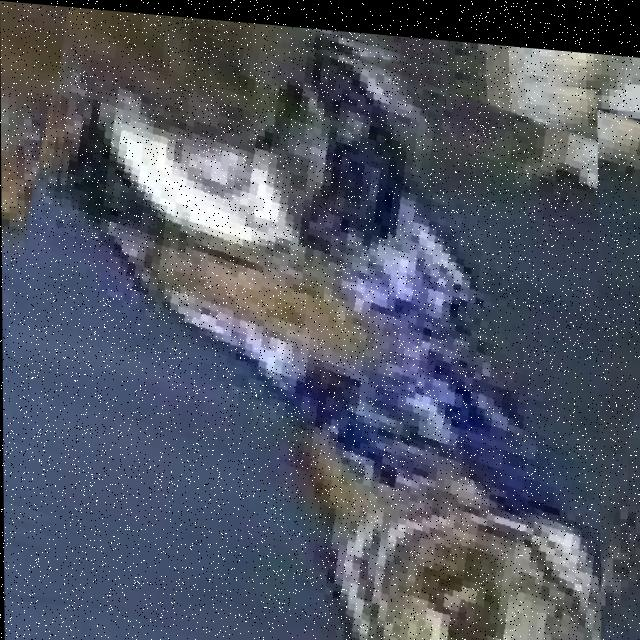can: (54, 41, 600, 640)
